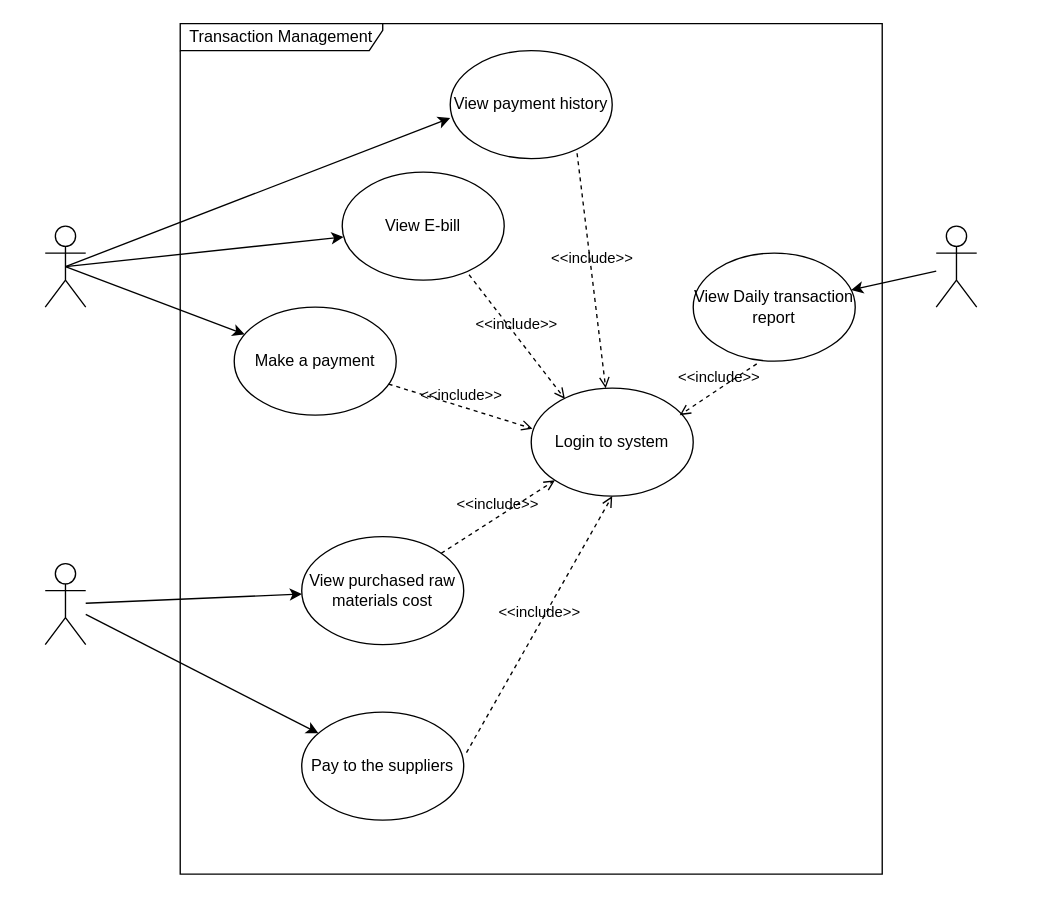
Image size: 1046x898. Some labels were removed from this diagram. Each missing label, with the centre of its shape:
"Accountaint" goes at [65,603].
"Customer" goes at [65,266].
"Financial Manager" goes at [956,266].
